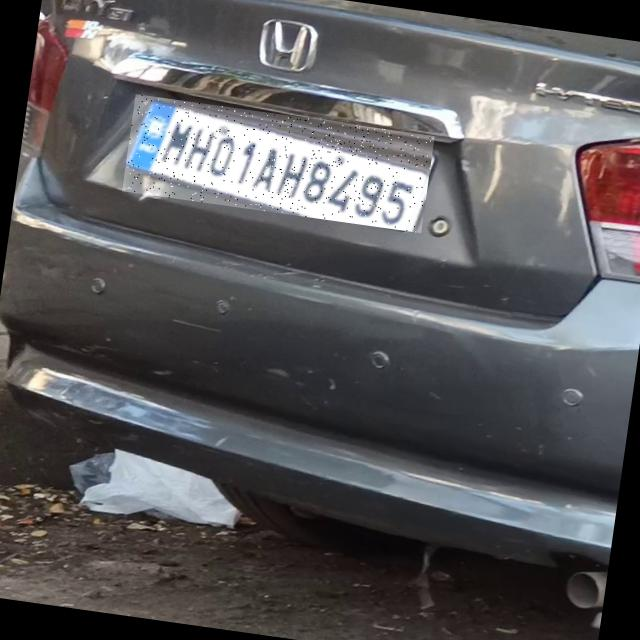Plate: (123, 95, 436, 234)
